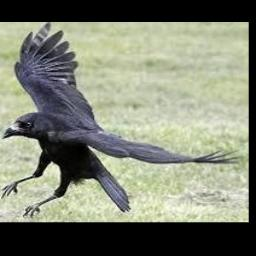Crow: (1, 22, 239, 217)
